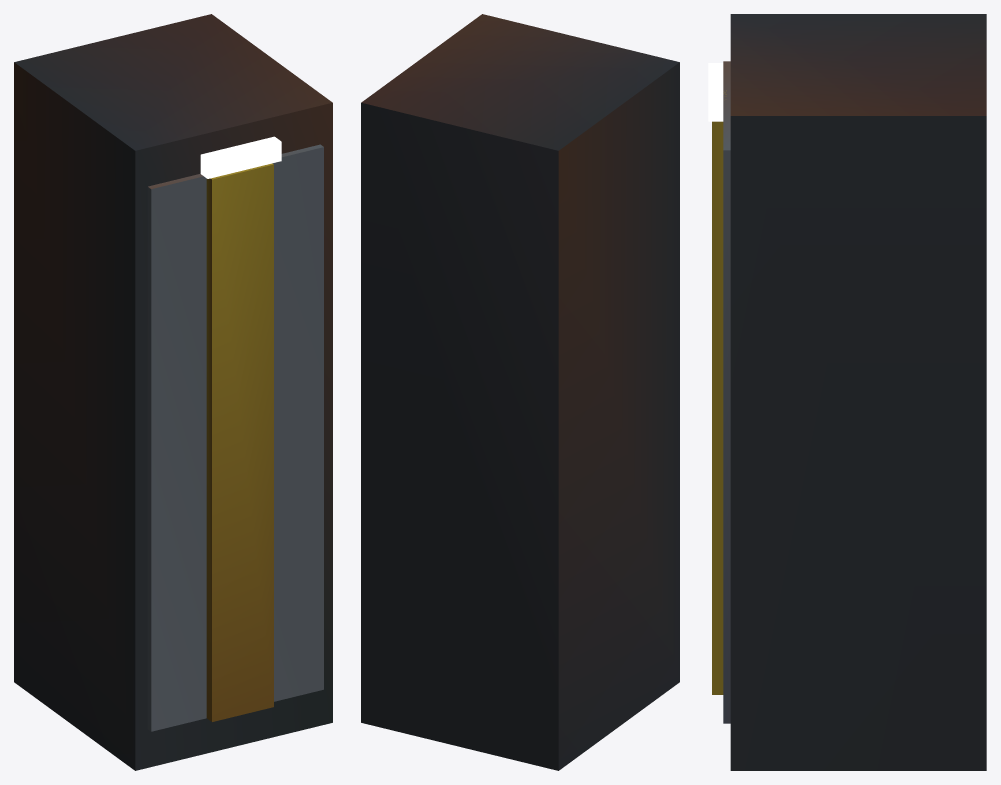
Rendered from airlock.glb.
3 views of the same model, side by side, from view 1: azimuth 30°, elevation 25°; view 2: azimuth 150°, elevation 25°; view 3: azimuth 270°, elevation 25° (orthographic). The views are drawn at different scales.
Parts seen in each view (by area): view 1: airlock; view 2: airlock; view 3: airlock.
Boxes of the visible parts, left/top/right/bottom form: airlock: left=14, top=14, right=332, bottom=770; airlock: left=361, top=14, right=679, bottom=770; airlock: left=708, top=14, right=986, bottom=770.
Size of the model in its own units: 32 by 96 by 37.
